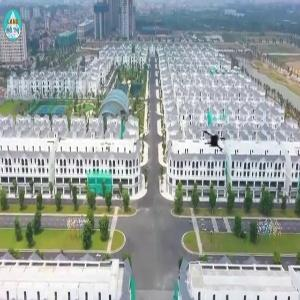drone: (200, 122, 237, 159)
